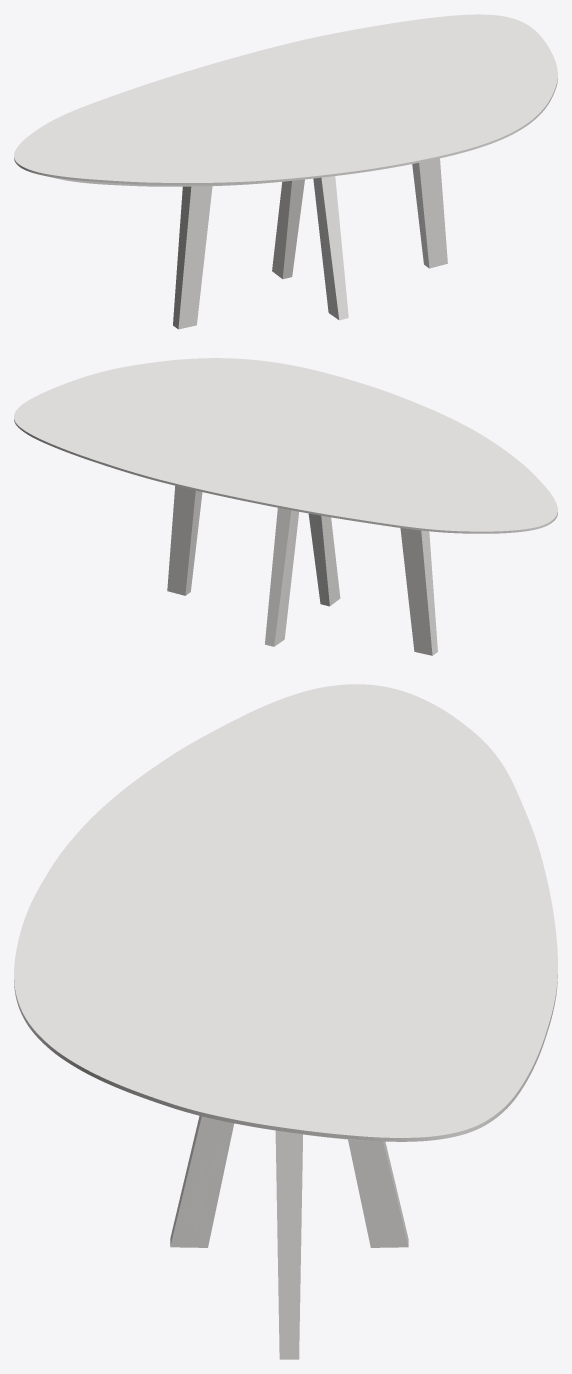
File: purewhite_pebbletop_facet_searwalnut.glb
The picture shows the model from 3 angles, top to bottom: view 1: azimuth 30°, elevation 25°; view 2: azimuth 150°, elevation 25°; view 3: azimuth 270°, elevation 25°; orthographic projection. The views are drawn at different scales.
Visible parts, largest first — view 1: facet_pebbletop, searwalnut; view 2: facet_pebbletop, searwalnut; view 3: facet_pebbletop, searwalnut.
Part boxes in pixels (x1=…): facet_pebbletop: x1=14, y1=14, x2=557, y2=186; searwalnut: x1=173, y1=158, x2=447, y2=329; facet_pebbletop: x1=14, y1=358, x2=557, y2=533; searwalnut: x1=167, y1=486, x2=437, y2=655; facet_pebbletop: x1=14, y1=684, x2=557, y2=1141; searwalnut: x1=170, y1=1115, x2=408, y2=1359.
Size of the model in its own units: 7.5 by 2.5 by 3.8.
1 material, 1 textured.
